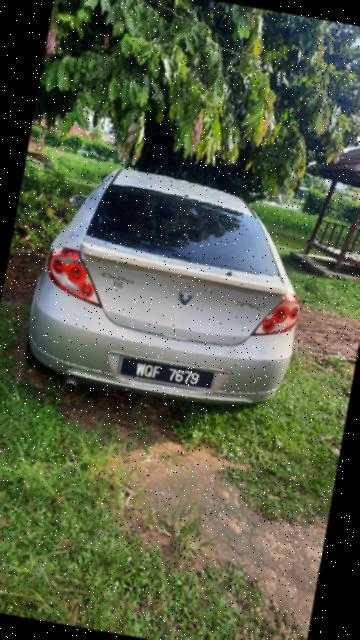License_Plate: (112, 350, 217, 397)
car: (18, 153, 324, 421)
